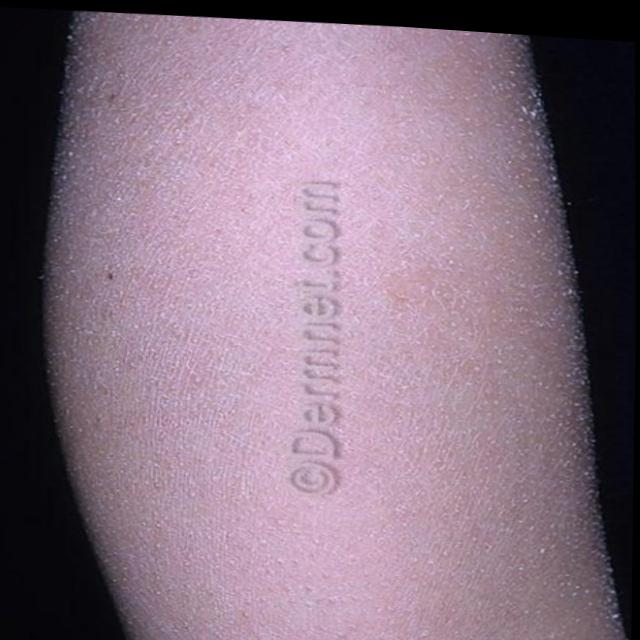Eczema: (102, 25, 535, 606)
